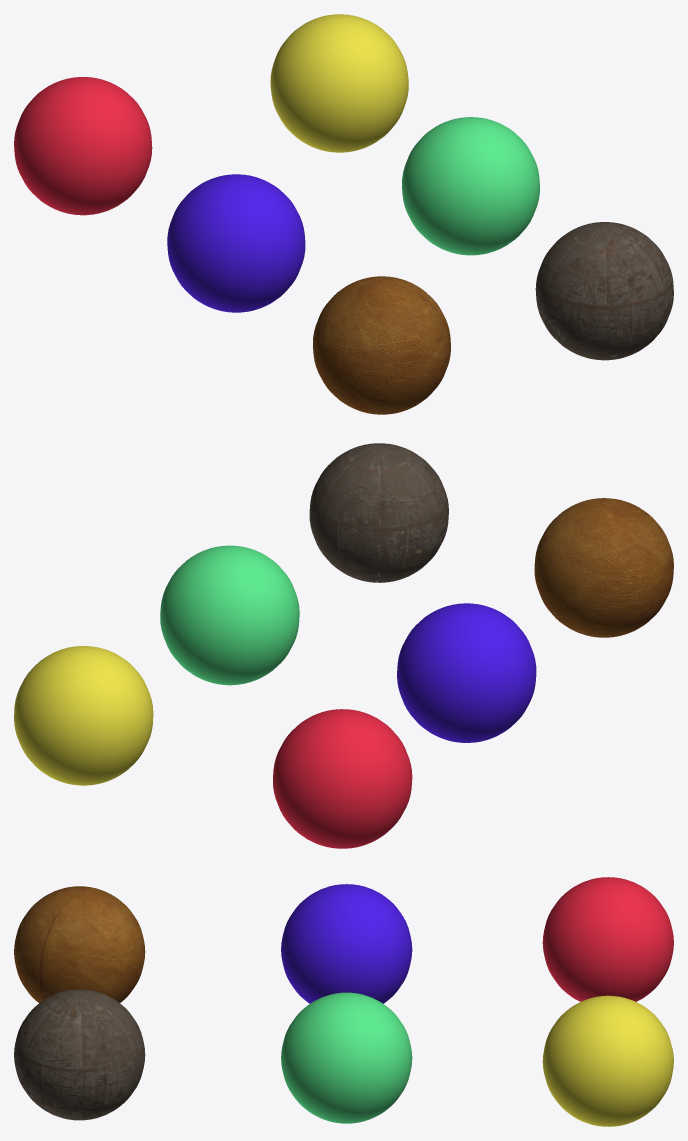
The model's file is lllllsssll.glb.
3 views of the same model, one above another, from view 1: azimuth 30°, elevation 25°; view 2: azimuth 150°, elevation 25°; view 3: azimuth 270°, elevation 25° (orthographic). The views are drawn at different scales.
Visible parts, largest first — view 1: Sphere.001, Sphere.003, Sphere.004, Sphere, Sphere.002, Sphere.005; view 2: Sphere, Sphere.002, Sphere.003, Sphere.005, Sphere.001, Sphere.004; view 3: Sphere.002, Sphere, Sphere.001, Sphere.005, Sphere.004, Sphere.003.
Part boxes in pixels (box(x1,y1,x2,y2)): Sphere.001: box(270, 14, 408, 152); Sphere.003: box(313, 276, 450, 414); Sphere.004: box(167, 174, 305, 312); Sphere: box(402, 117, 539, 255); Sphere.002: box(535, 222, 673, 360); Sphere.005: box(14, 77, 152, 215); Sphere: box(160, 545, 299, 685); Sphere.002: box(309, 443, 448, 582); Sphere.003: box(534, 498, 673, 637); Sphere.005: box(273, 709, 412, 848); Sphere.001: box(14, 646, 153, 785); Sphere.004: box(397, 603, 536, 742); Sphere.002: box(14, 989, 145, 1120); Sphere: box(281, 992, 412, 1123); Sphere.001: box(542, 995, 673, 1126); Sphere.005: box(542, 877, 673, 1001); Sphere.004: box(281, 884, 412, 1003); Sphere.003: box(14, 886, 145, 1003).
Bounding box in the file's own units: 15.69 × 5 × 25.14.
Materials: 6 (2 with a texture image).
